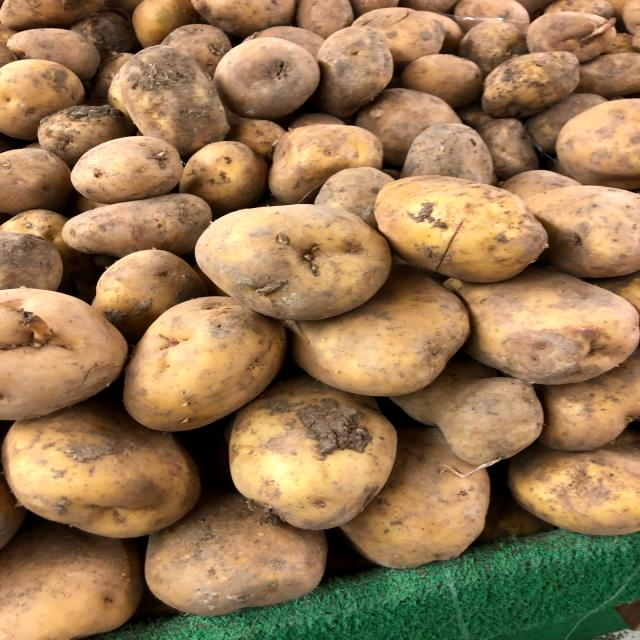potato: (104, 293, 293, 435), (196, 201, 396, 324), (372, 168, 553, 276), (71, 128, 185, 206)
